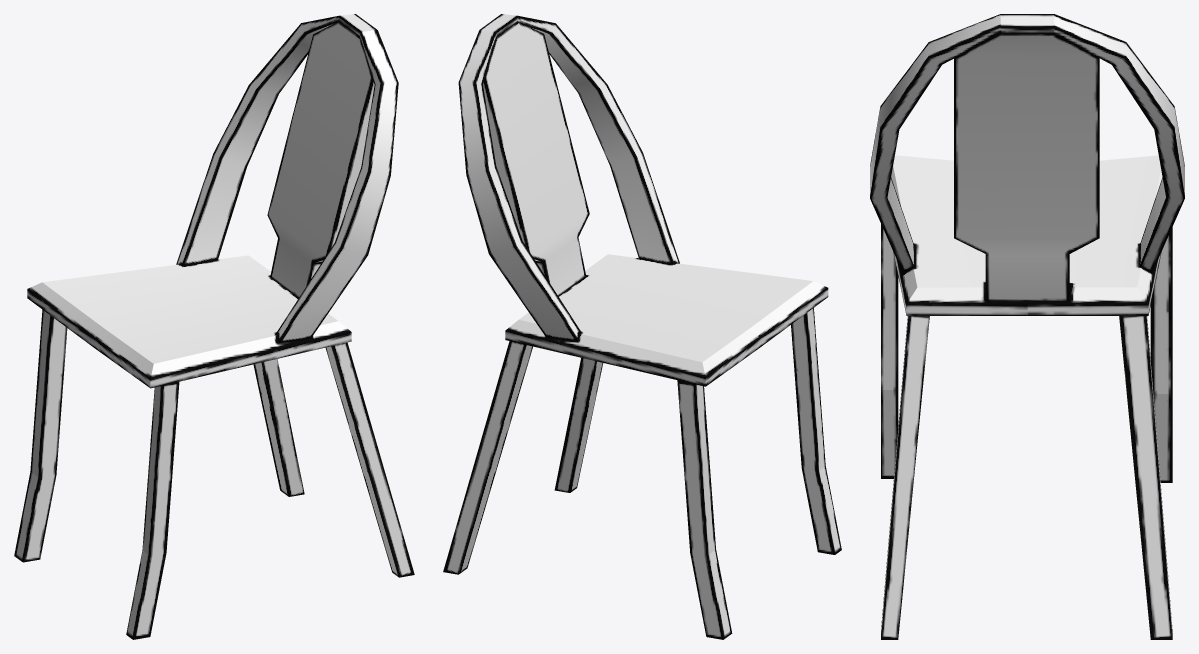
The model's file is Chair01.glb.
The picture shows the model from 3 angles, left to right: view 1: azimuth 30°, elevation 25°; view 2: azimuth 150°, elevation 25°; view 3: azimuth 270°, elevation 25°; orthographic projection. The views are drawn at different scales.
Parts seen in each view (by area): view 1: Chair01; view 2: Chair01; view 3: Chair01.
Part boxes in pixels (left/top/right/bottom): Chair01: left=14, top=14, right=414, bottom=639; Chair01: left=443, top=14, right=841, bottom=639; Chair01: left=870, top=14, right=1184, bottom=639.
Bounding box in the file's own units: 1.38 × 2.28 × 1.04.
Materials: 1 (1 with a texture image).
